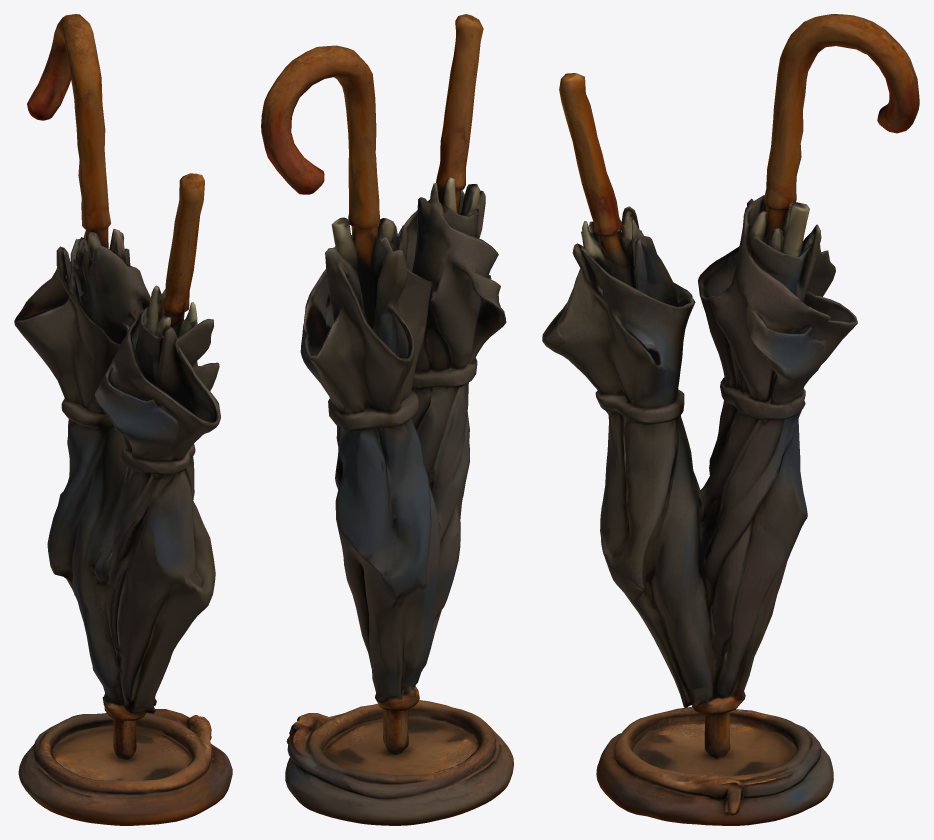
3 views of the same model, side by side, from view 1: azimuth 30°, elevation 25°; view 2: azimuth 150°, elevation 25°; view 3: azimuth 270°, elevation 25° (orthographic). The views are drawn at different scales.
Visible parts, largest first — view 1: tripo_node_5c8e4900-67c1-47e5-b3a3-cbfdad4a5a1c; view 2: tripo_node_5c8e4900-67c1-47e5-b3a3-cbfdad4a5a1c; view 3: tripo_node_5c8e4900-67c1-47e5-b3a3-cbfdad4a5a1c.
Boxes of the visible parts, <box> form: tripo_node_5c8e4900-67c1-47e5-b3a3-cbfdad4a5a1c: <box>14,14,232,825</box>; tripo_node_5c8e4900-67c1-47e5-b3a3-cbfdad4a5a1c: <box>261,14,513,825</box>; tripo_node_5c8e4900-67c1-47e5-b3a3-cbfdad4a5a1c: <box>542,14,919,825</box>.
Size of the model in its own units: 0.2729 by 1 by 0.4423.
Materials: 1 (1 with a texture image).
